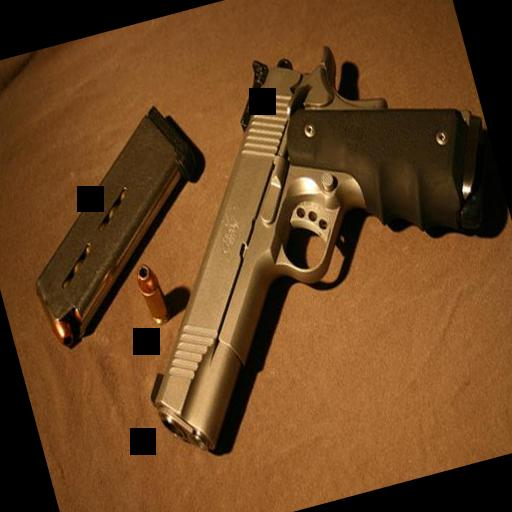Handgun: (68, 1, 512, 465)
